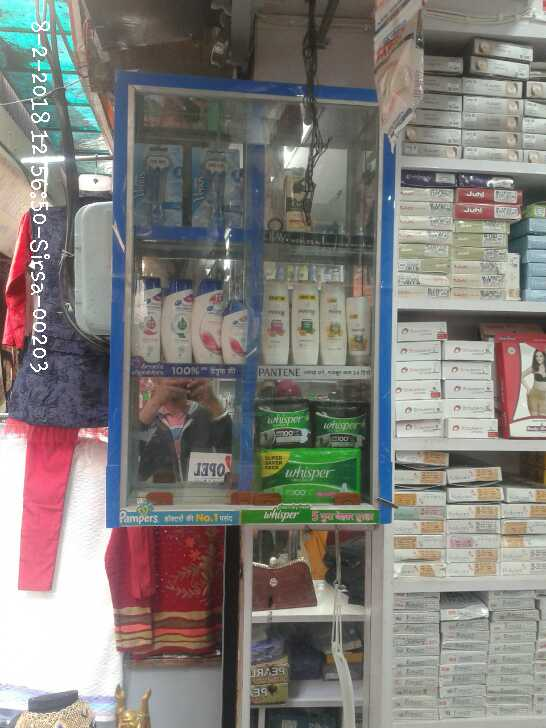venus: (138, 144, 186, 224), (195, 145, 241, 224)
